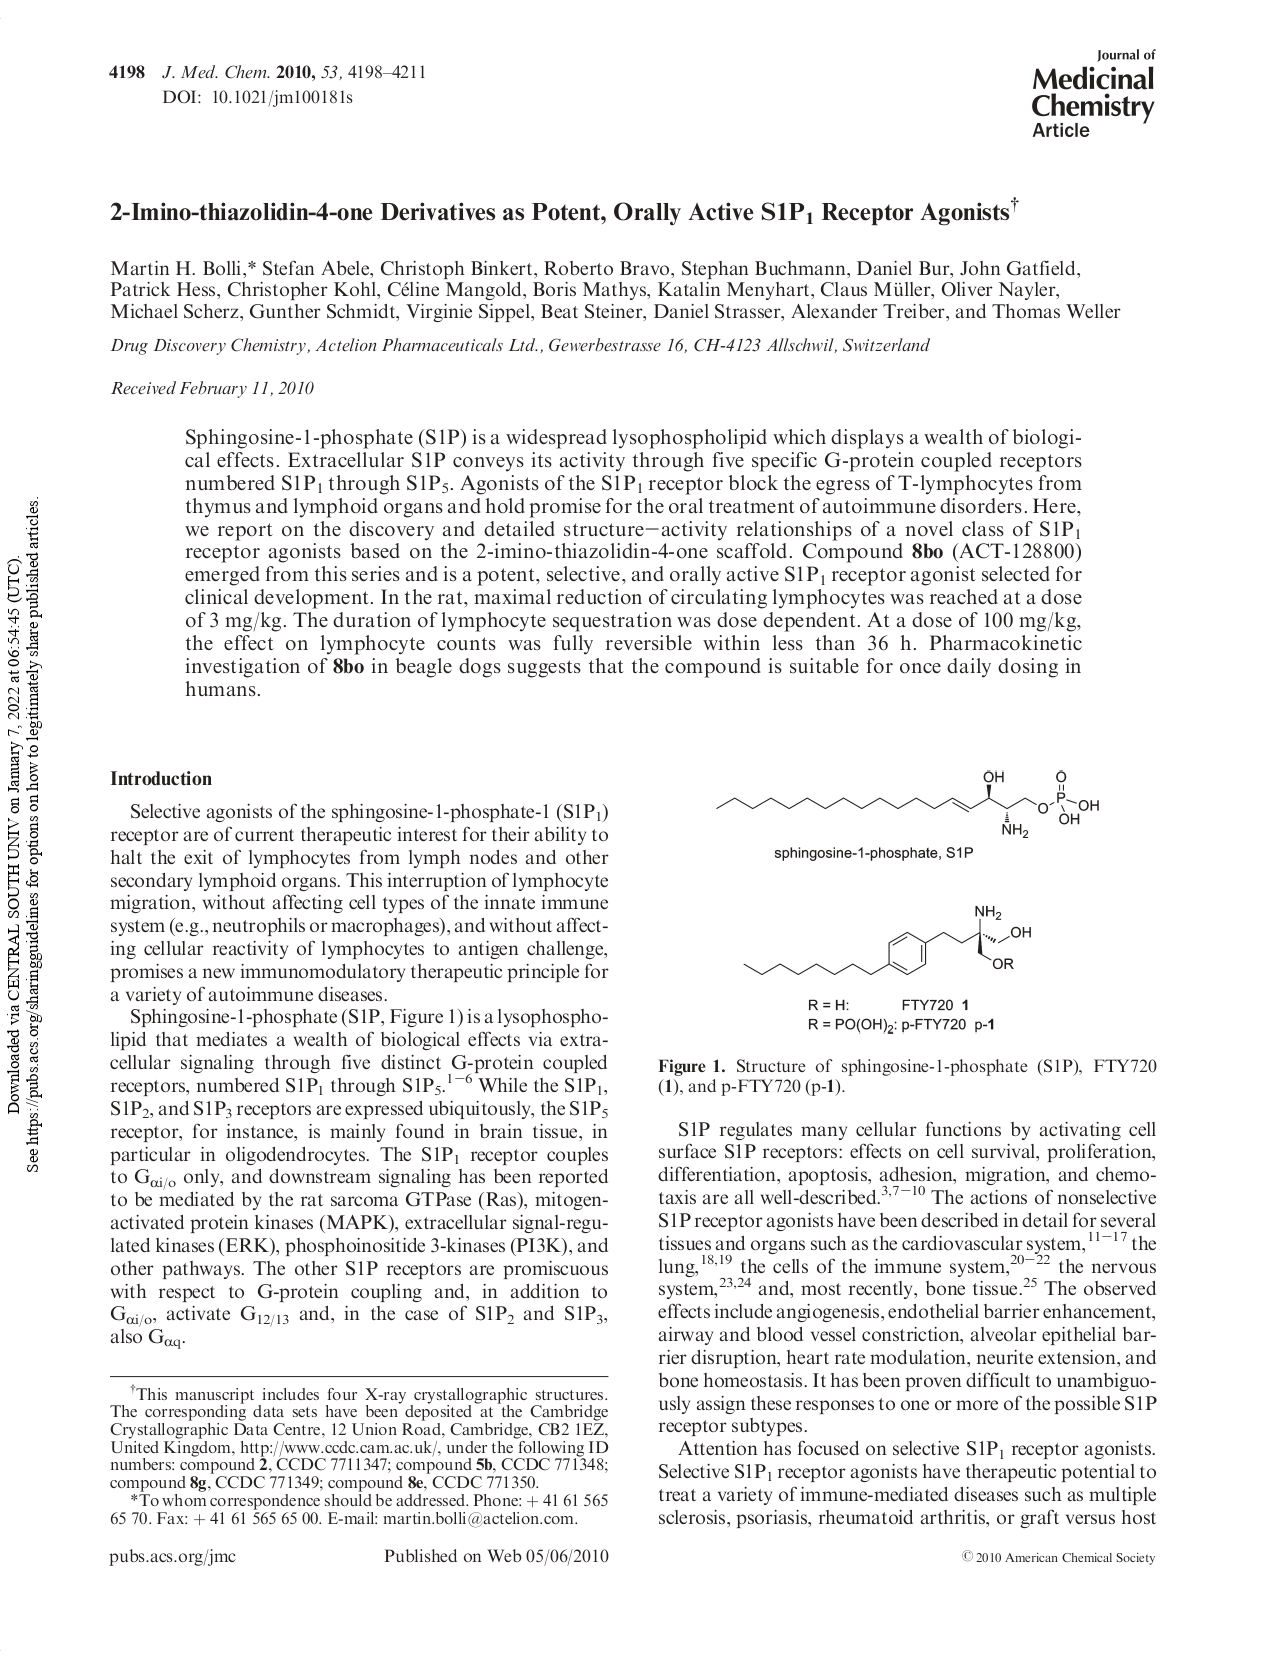exist_molecular: (711, 751, 1113, 838), (731, 903, 1037, 995)
